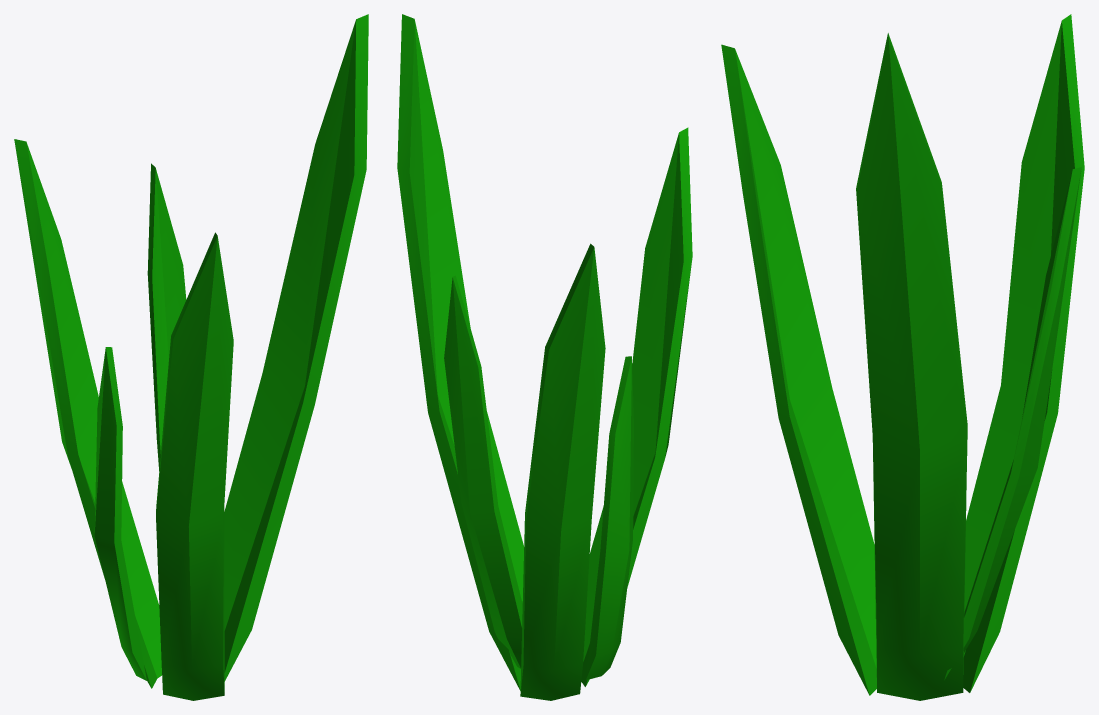
Rendered from Grass.fbx.
3 renders of one model, left to right at view 1: azimuth 30°, elevation 25°; view 2: azimuth 150°, elevation 25°; view 3: azimuth 270°, elevation 25°, orthographic. The views are drawn at different scales.
Visible parts, largest first — view 1: Cube; view 2: Cube; view 3: Cube.
Boxes of the visible parts, left/top/right/bottom form: Cube: left=14, top=14, right=368, bottom=700; Cube: left=397, top=14, right=692, bottom=700; Cube: left=721, top=14, right=1084, bottom=700.
Bounding box in the file's own units: 364 × 806 × 355.
